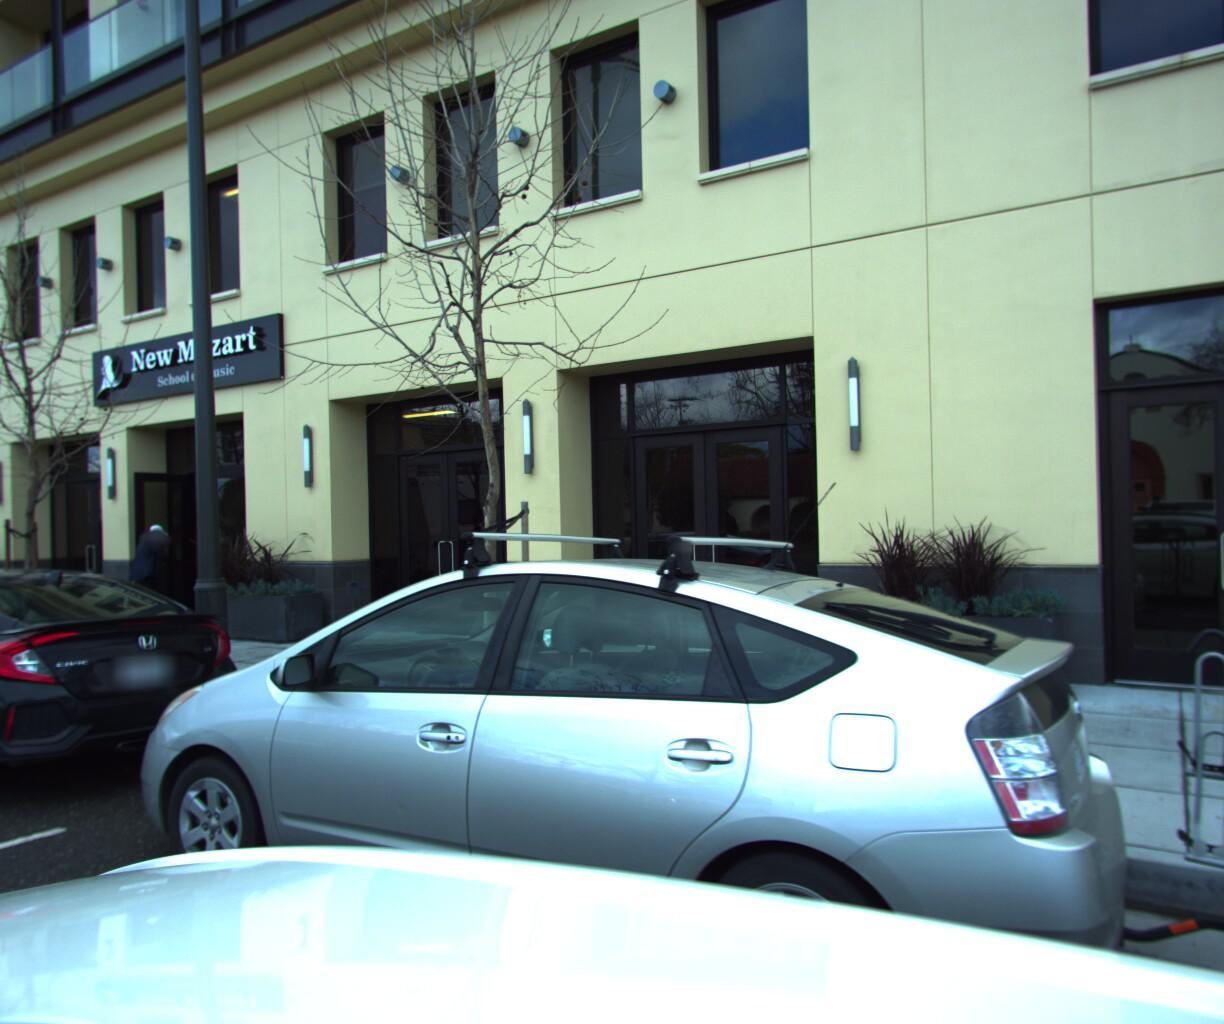car: (55, 533, 1158, 1024), (0, 548, 270, 855)
